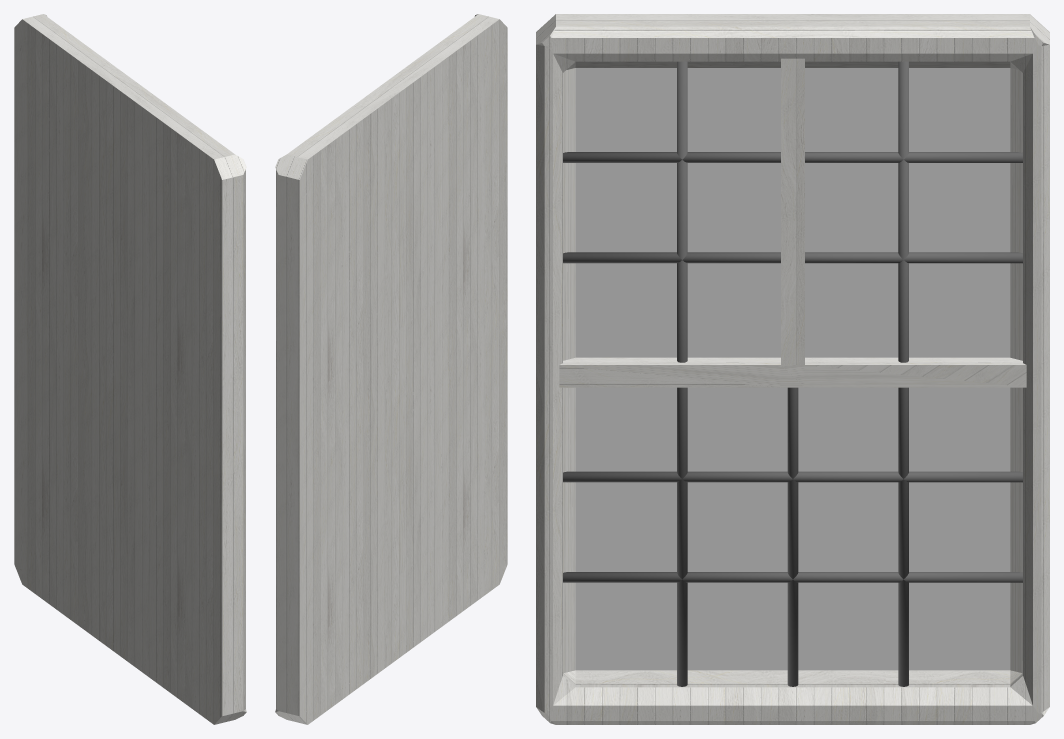
File: window.fbx
3 renders of one model, left to right at view 1: azimuth 30°, elevation 25°; view 2: azimuth 150°, elevation 25°; view 3: azimuth 270°, elevation 25°, orthographic. The views are drawn at different scales.
Parts seen in each view (by area): view 1: Window; view 2: Window; view 3: Window.
Part boxes in pixels (bbox=[...]): Window: bbox=[14, 14, 246, 724]; Window: bbox=[275, 14, 507, 724]; Window: bbox=[536, 14, 1049, 724].
Size of the model in its own units: 30.5 by 600 by 400.
